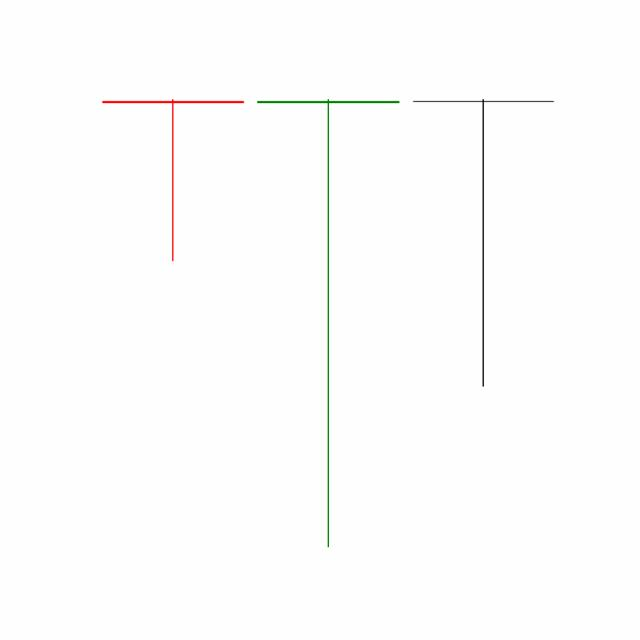Dragonfly Doji: (405, 96, 561, 390)
